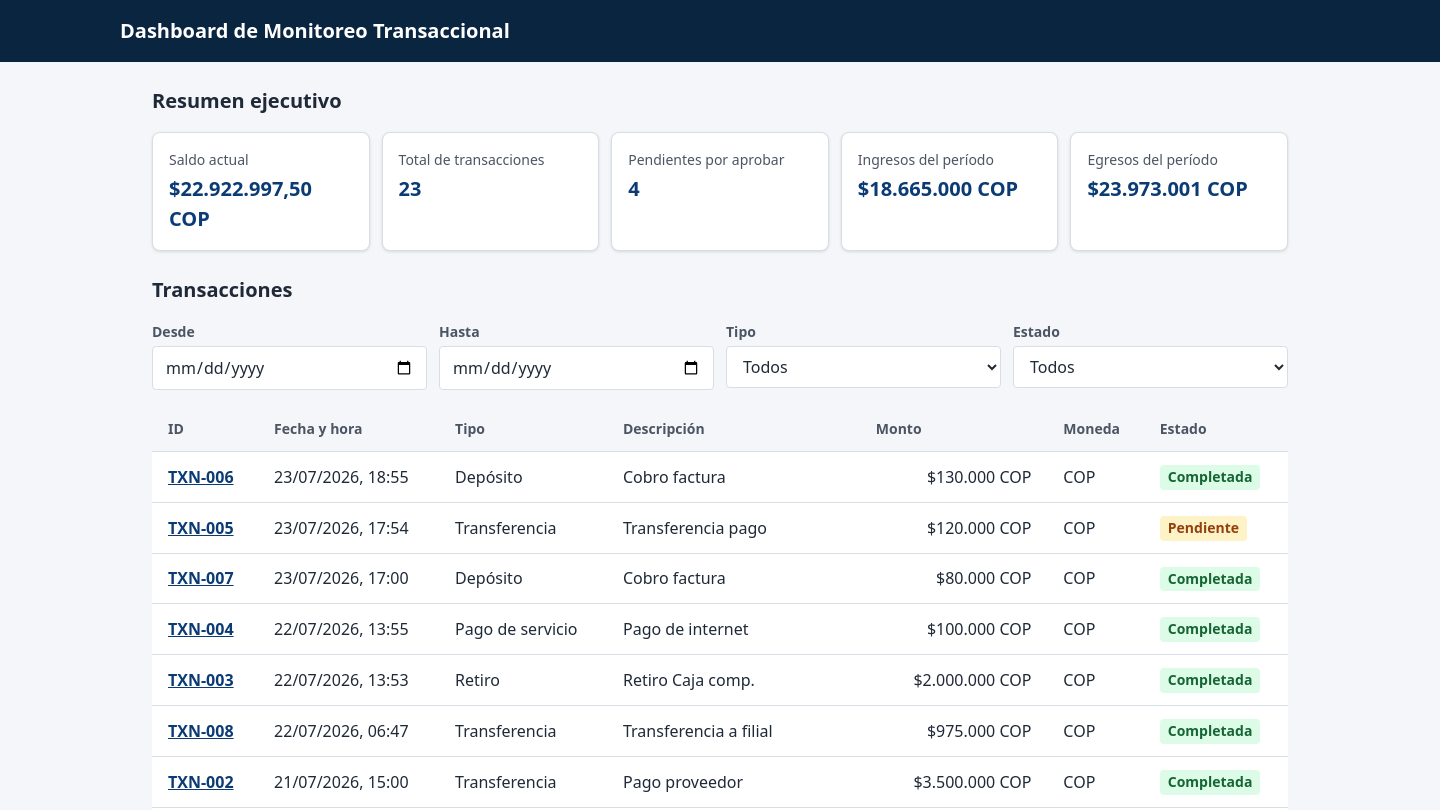
Scenario: DashboardPage (integración) › con un rango invertido avisa y filtra solo por tipo y estado (A2)
Select "Pendiente" in the dropdown labelled "Estado" at coordinates (1150, 367), box x1=1013 y1=346 x2=1288 y2=388
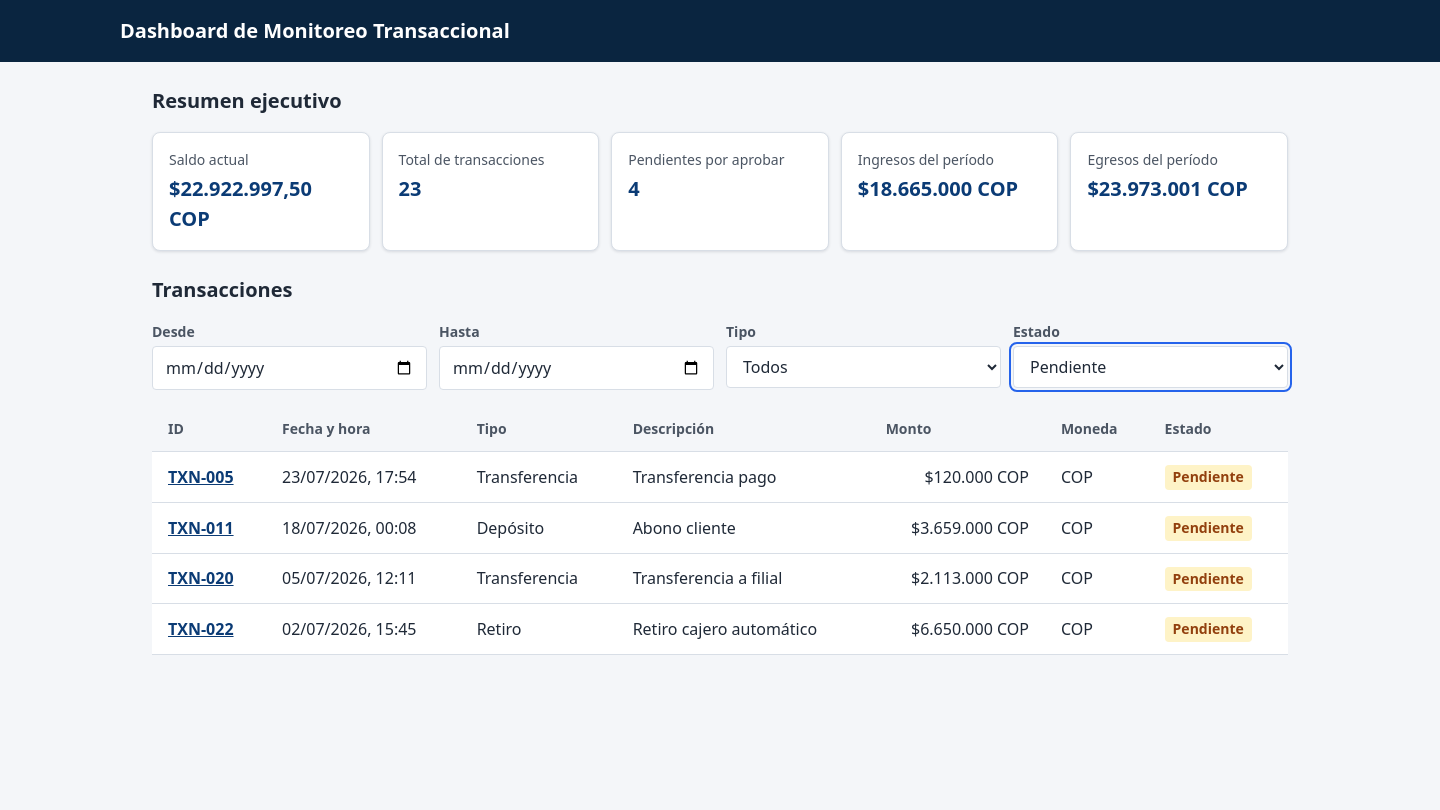
Type "2026-07-23" into the date field labelled "Desde".
click(290, 368); type("2026-07-23")  # box x1=152 y1=346 x2=427 y2=390
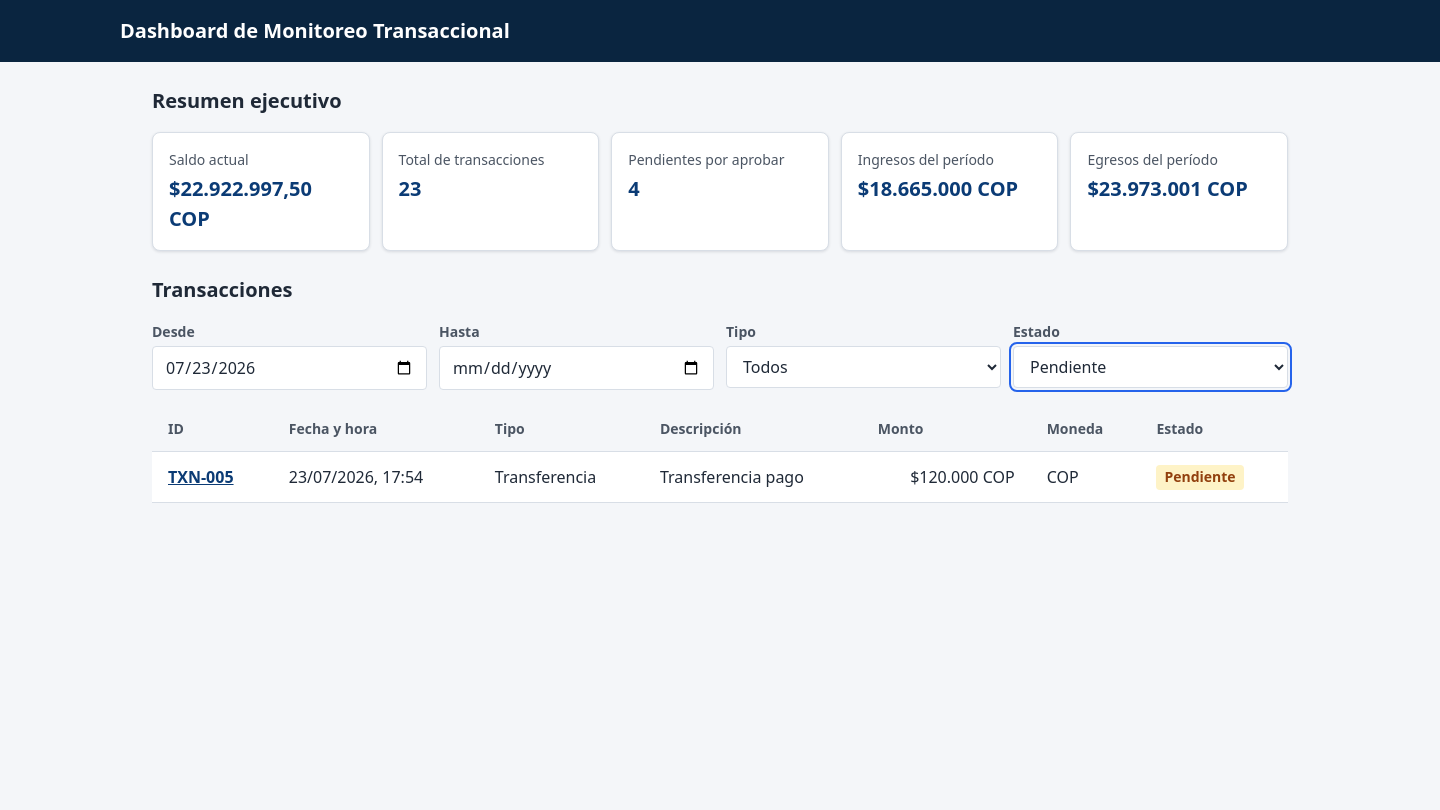
Type "2026-07-01" into the date field labelled "Hasta".
click(576, 368); type("2026-07-01")  # box x1=439 y1=346 x2=714 y2=390
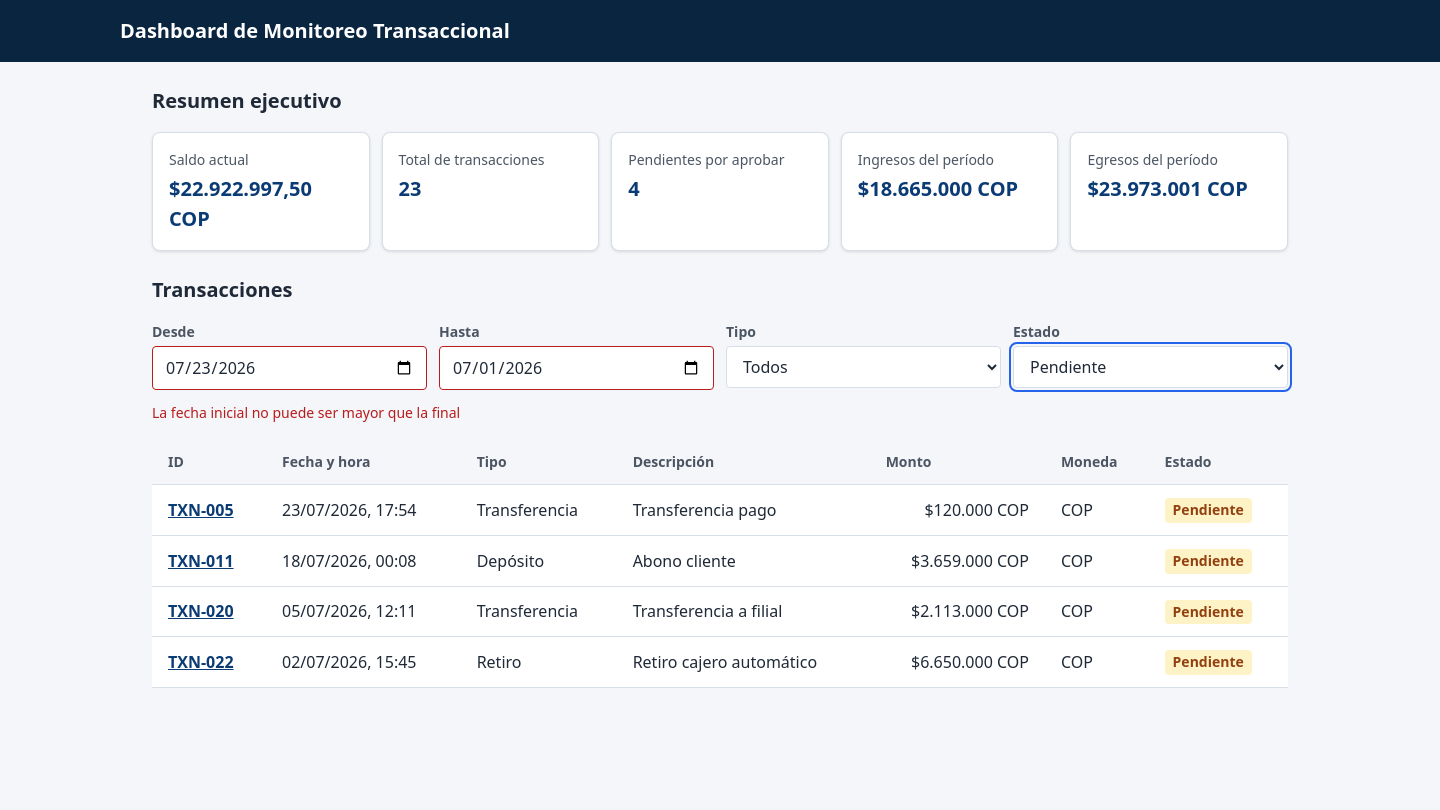
Expected: the link "TXN-005" is shown, x1=168 y1=499 x2=234 y2=521
Now the message reads "La fecha inicial no puede ser mayor que la final", box x1=152 y1=403 x2=460 y2=422
